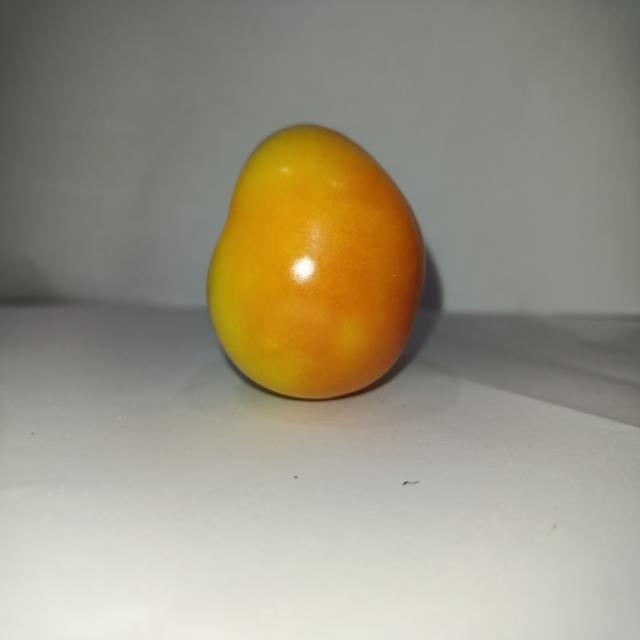Red: (205, 121, 427, 401)
